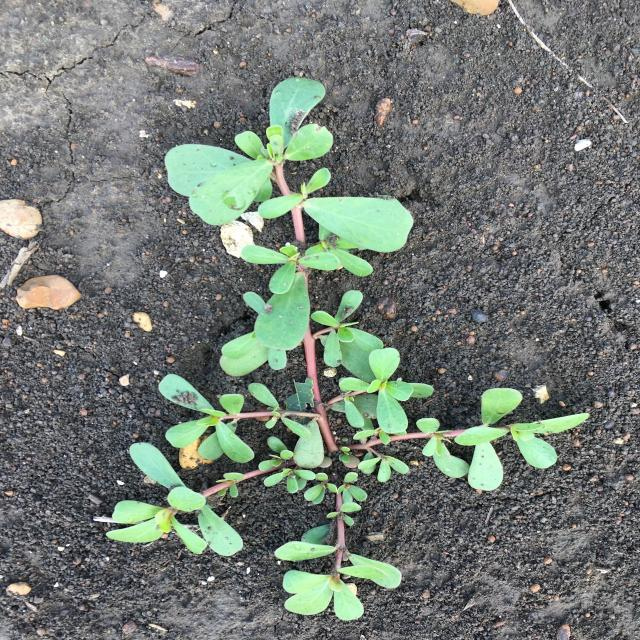Purslane: (106, 77, 590, 621)
